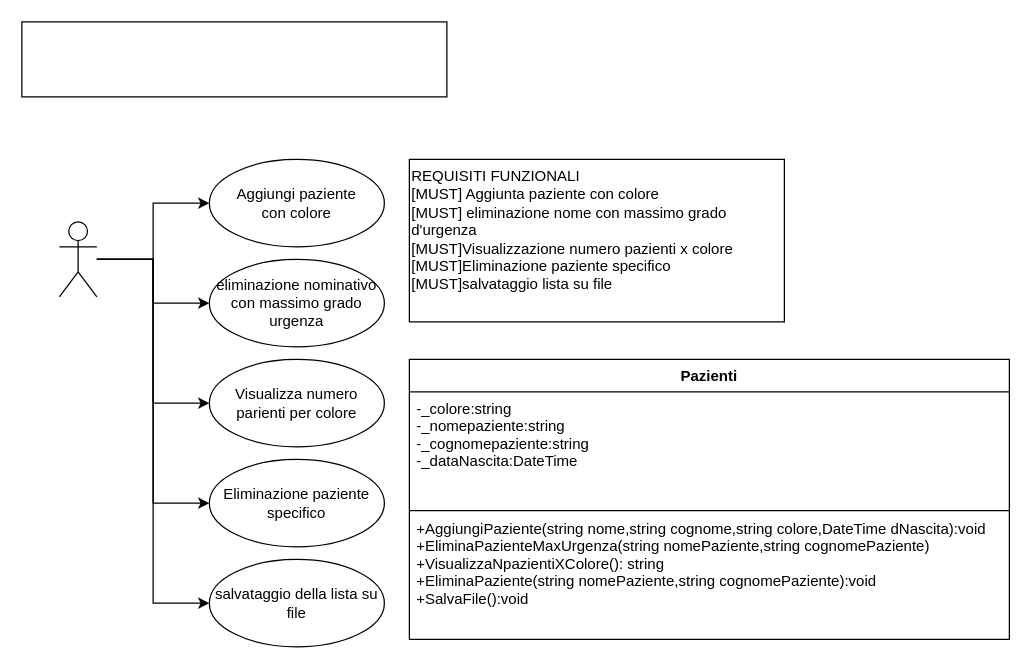
The diagram is 1031 pixels wide and 669 high, and some of its shapes have lost their labels. The centre of each missing label's shape, as x and y in pixels:
"Mattia Bertozzi 4H Prontosoccorso" belongs at point (234, 59).
"Medico" belongs at point (77, 259).
